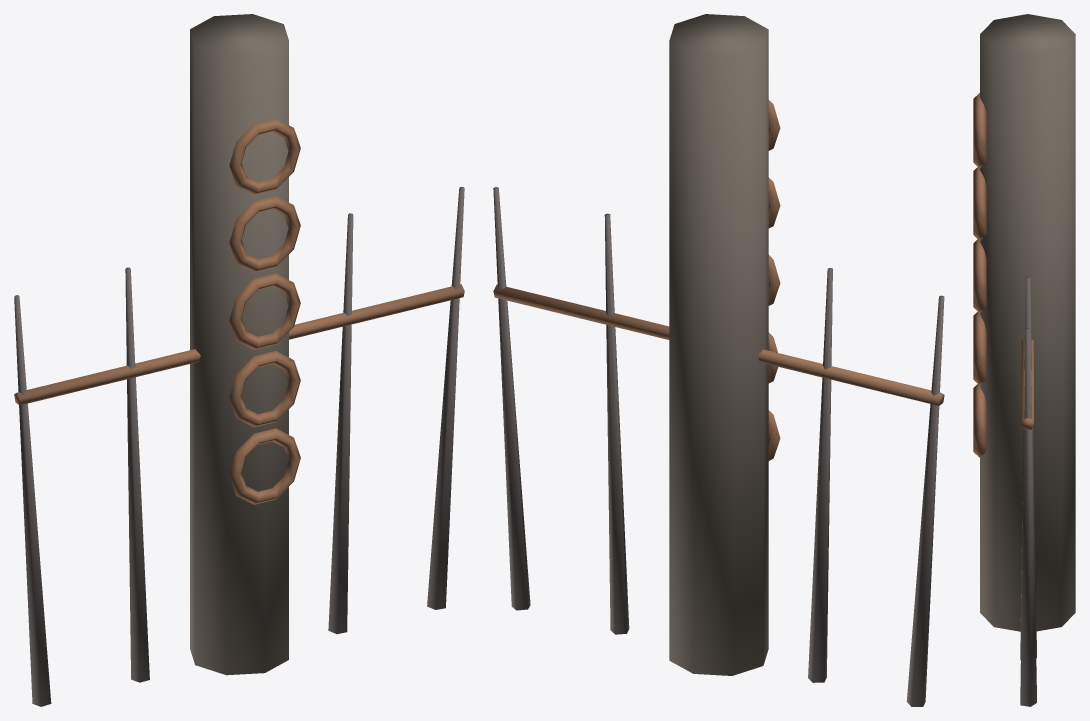
The model's file is iron_post.glb.
3 renders of one model, left to right at view 1: azimuth 30°, elevation 25°; view 2: azimuth 150°, elevation 25°; view 3: azimuth 270°, elevation 25°, orthographic. The views are drawn at different scales.
Visible parts, largest first — view 1: iron_post; view 2: iron_post; view 3: iron_post.
Boxes of the visible parts, x1,y1,x2,y2 form: iron_post: (14, 14, 464, 706); iron_post: (493, 14, 944, 706); iron_post: (973, 14, 1075, 706).
Size of the model in its own units: 1.82 by 2.4 by 0.3851.
